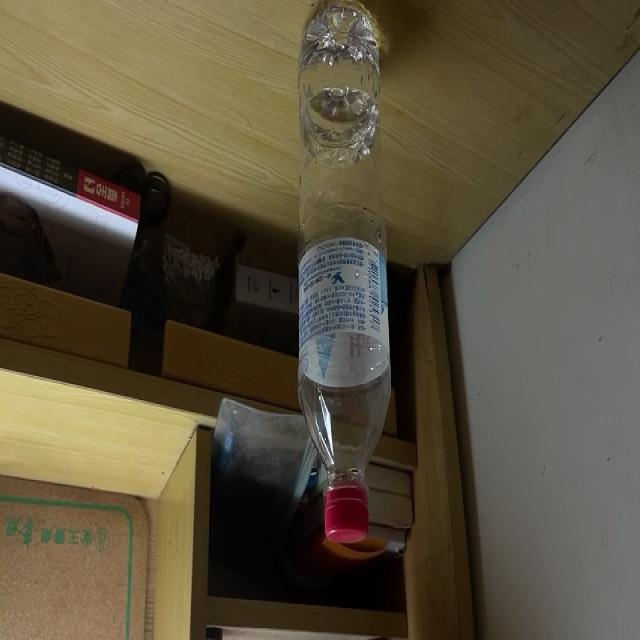Water: (300, 4, 389, 545)
